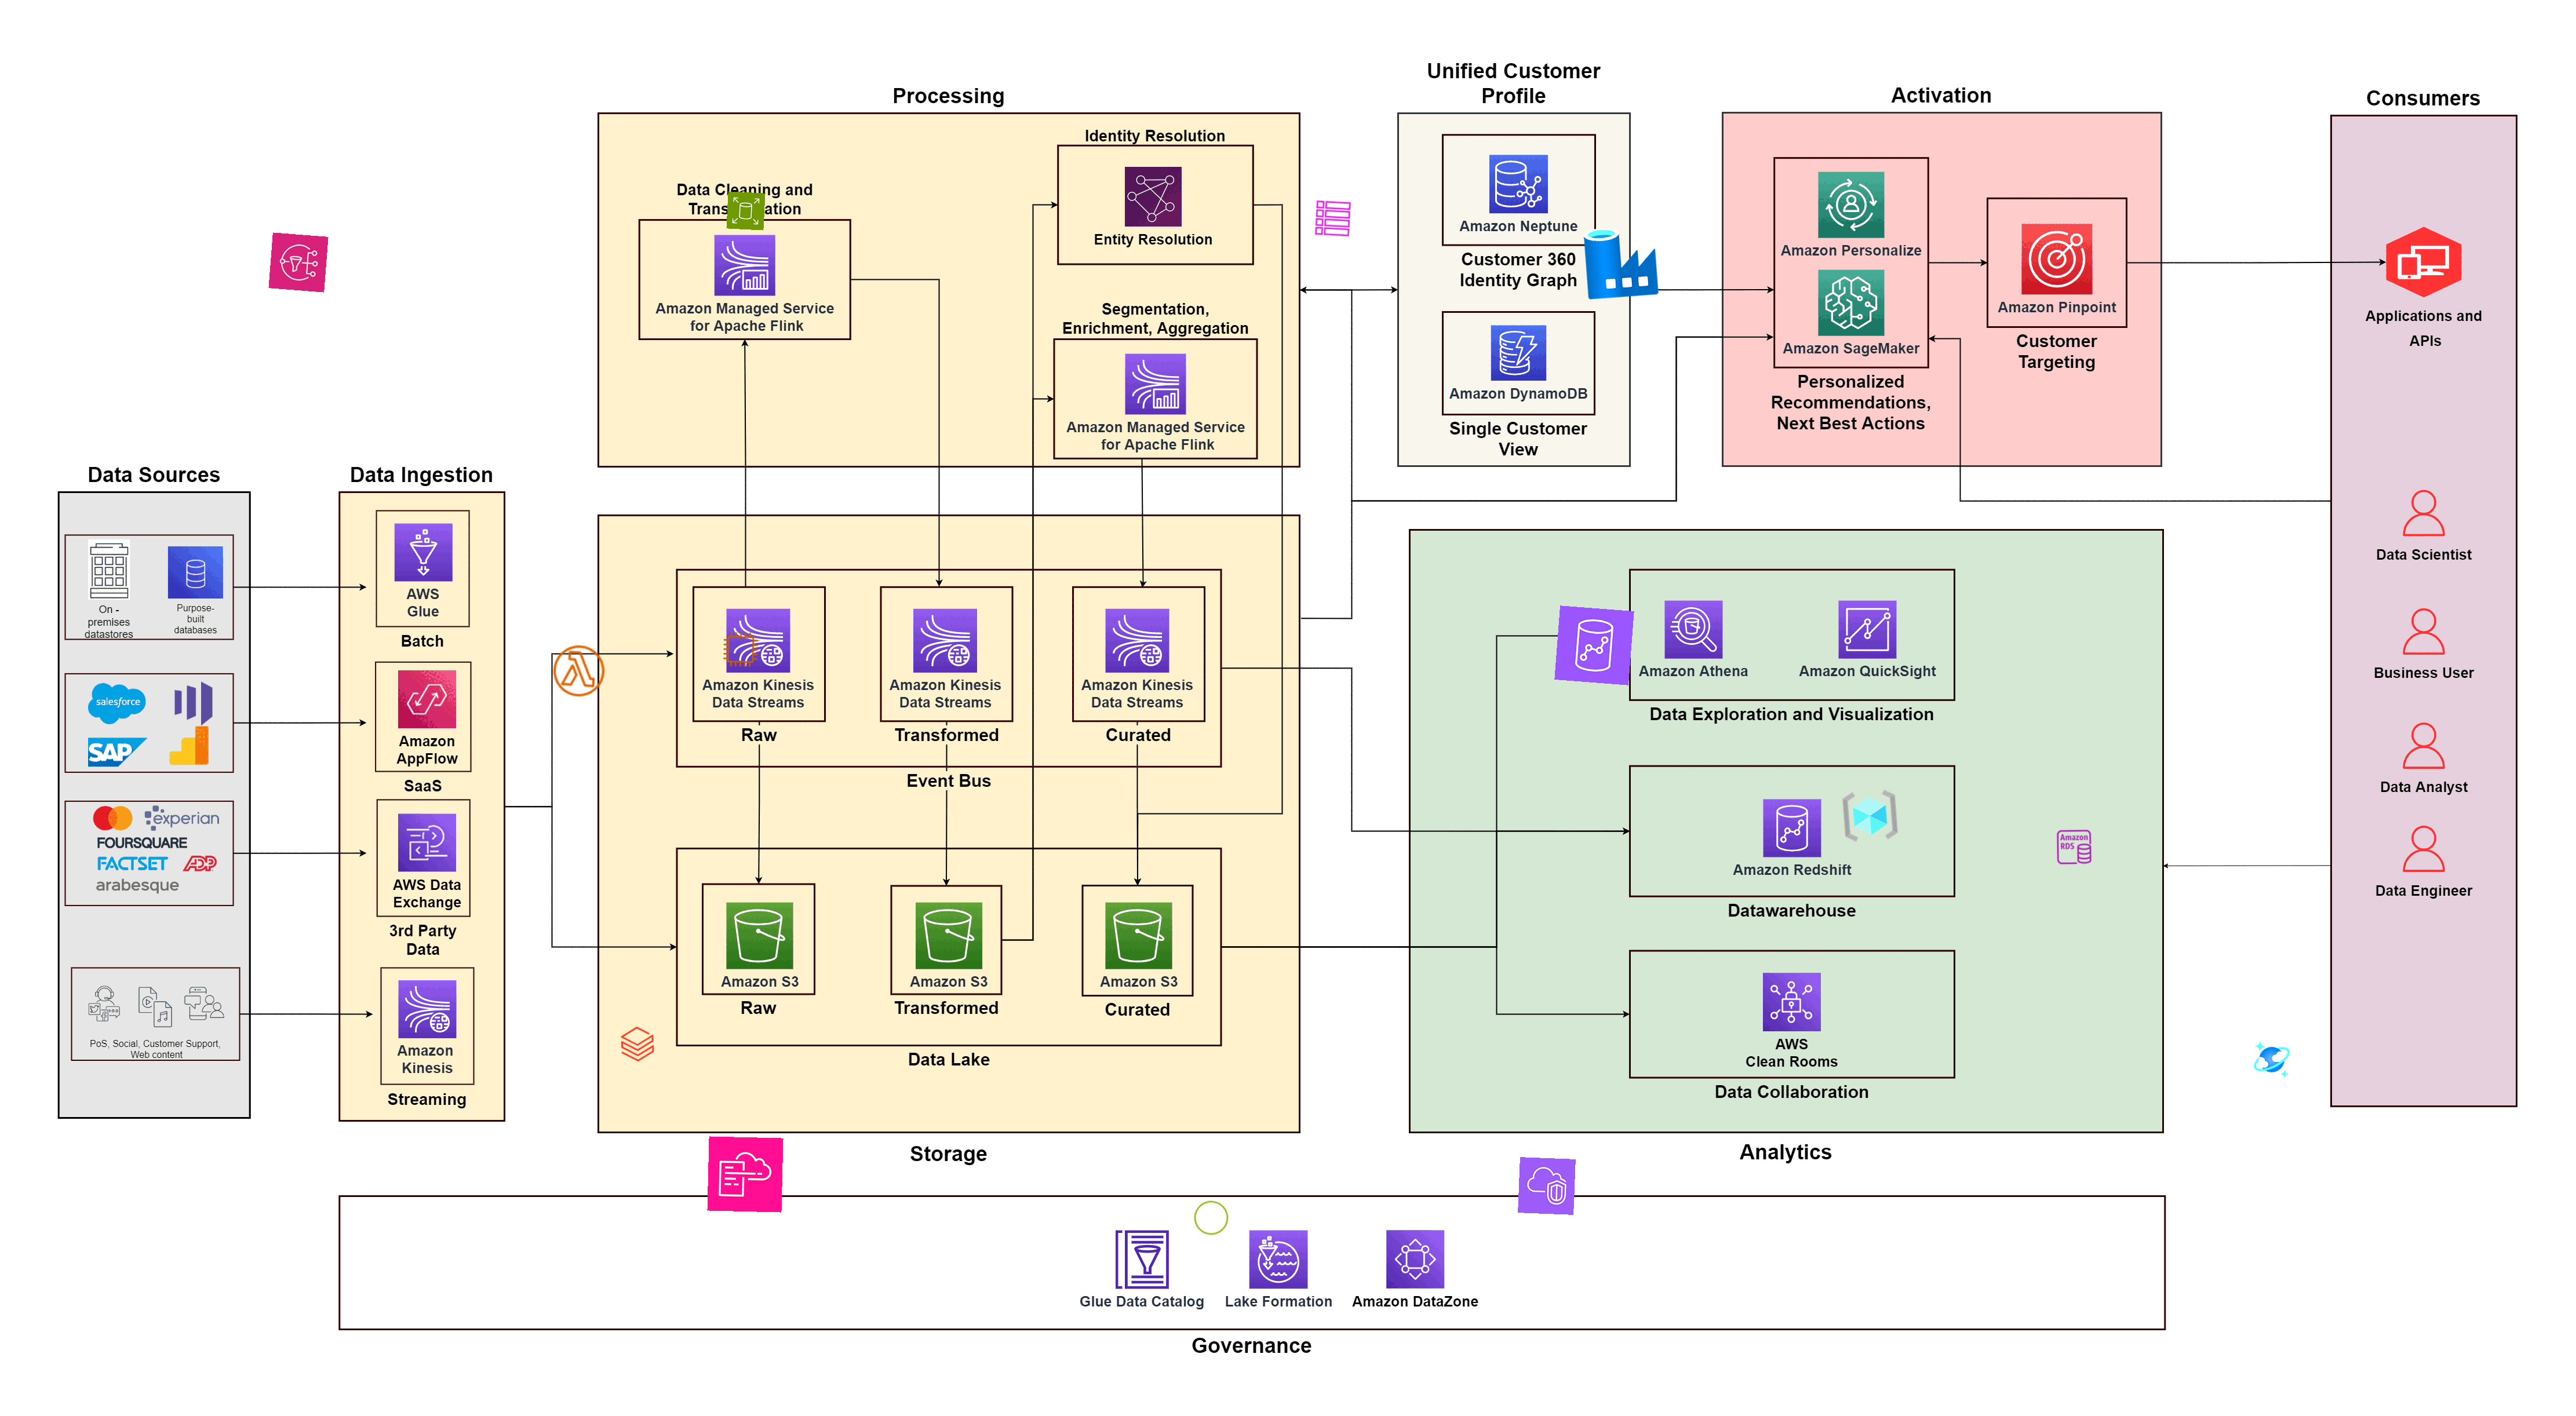aws_amazon_elastic_block_store: (726, 192, 766, 230)
aws_amazon_redshift: (1554, 605, 1634, 685)
aws_amazon_simple_notification_service: (269, 232, 328, 293)
aws_amazon_virtual_private_cloud: (1517, 1156, 1575, 1215)
aws_aurora_amazon_rds_instance: (2055, 828, 2093, 867)
aws_cloudformation: (706, 1137, 783, 1212)
aws_dynamodb_table: (1313, 199, 1353, 239)
aws_ec2_instance: (722, 630, 760, 668)
aws_lambda_lambda_function: (549, 640, 609, 701)
aws_simple_storage_service_object: (1191, 1198, 1231, 1238)
azure_cosmos_db: (2252, 1039, 2292, 1079)
azure_data_factories: (1580, 221, 1660, 302)
azure_databricks: (617, 1024, 658, 1064)
azure_resource_groups: (1840, 786, 1901, 846)
